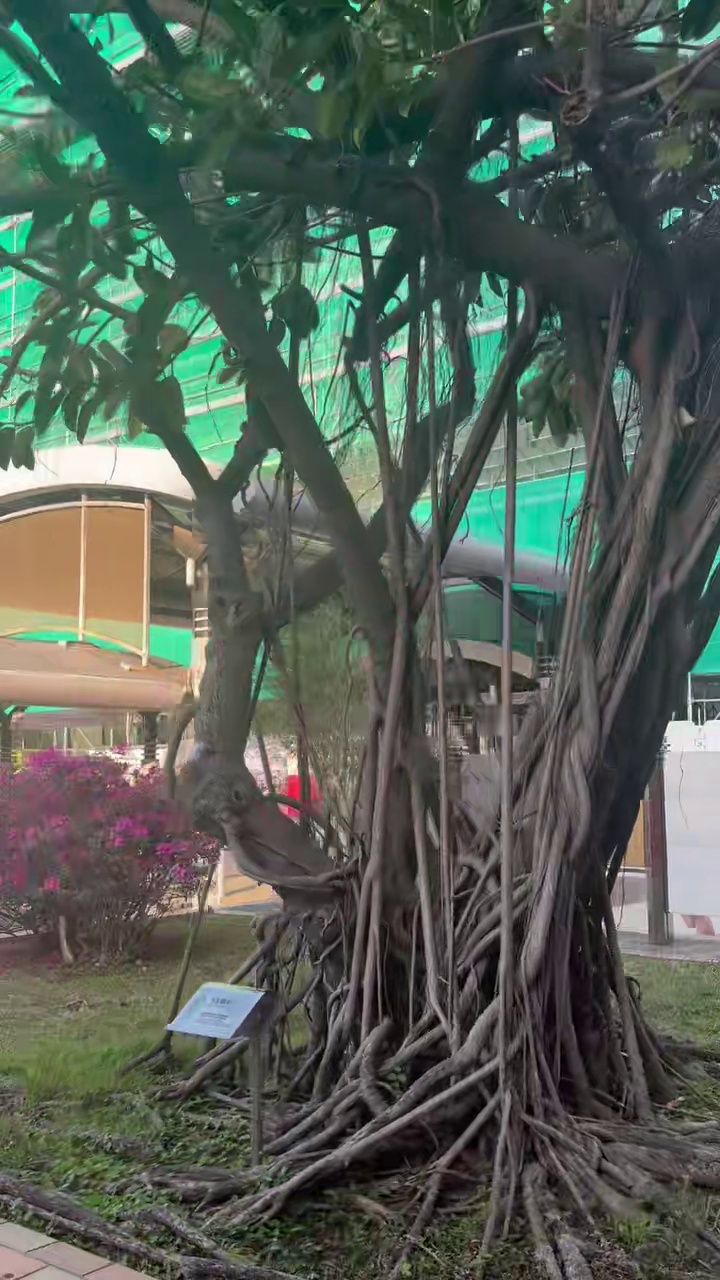Ficus elastica: (0, 0, 719, 1243)
